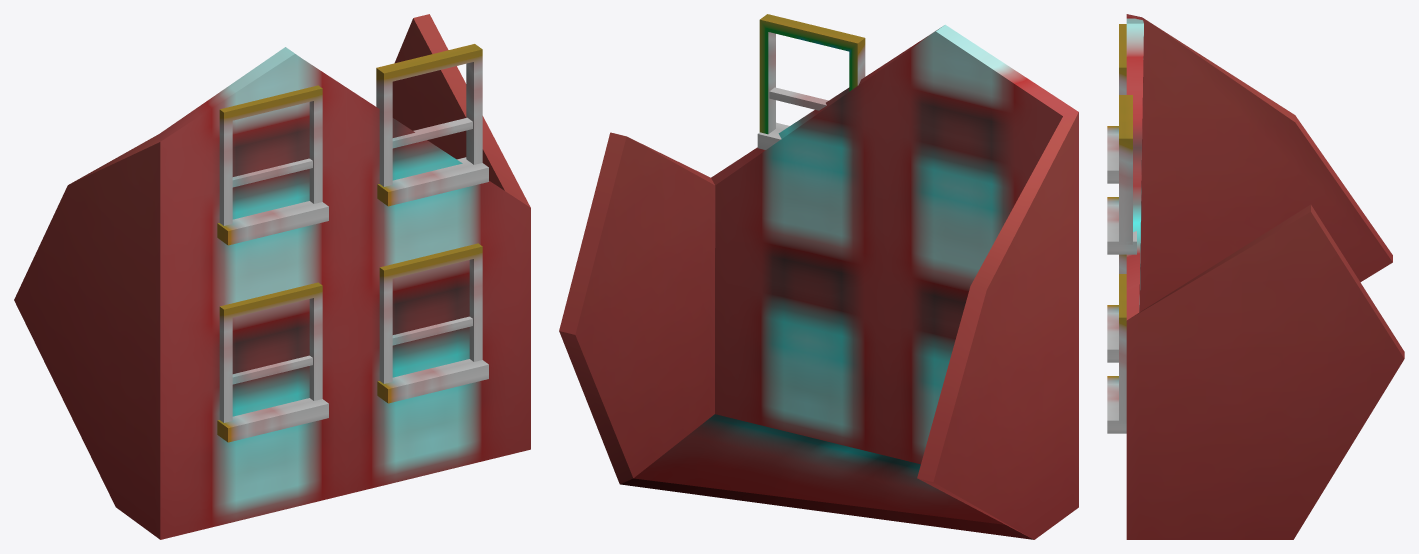
File: B7Broke05.FBX
3 renders of one model, left to right at view 1: azimuth 30°, elevation 25°; view 2: azimuth 150°, elevation 25°; view 3: azimuth 270°, elevation 25°, orthographic. The views are drawn at different scales.
Parts seen in each view (by area): view 1: B7Broke05; view 2: B7Broke05; view 3: B7Broke05.
Part boxes in pixels (<box>): B7Broke05: <box>14,14,530,539</box>; B7Broke05: <box>559,14,1078,539</box>; B7Broke05: <box>1107,14,1404,539</box>.
Bounding box in the file's own units: 52.34 × 61.2 × 40.02.
